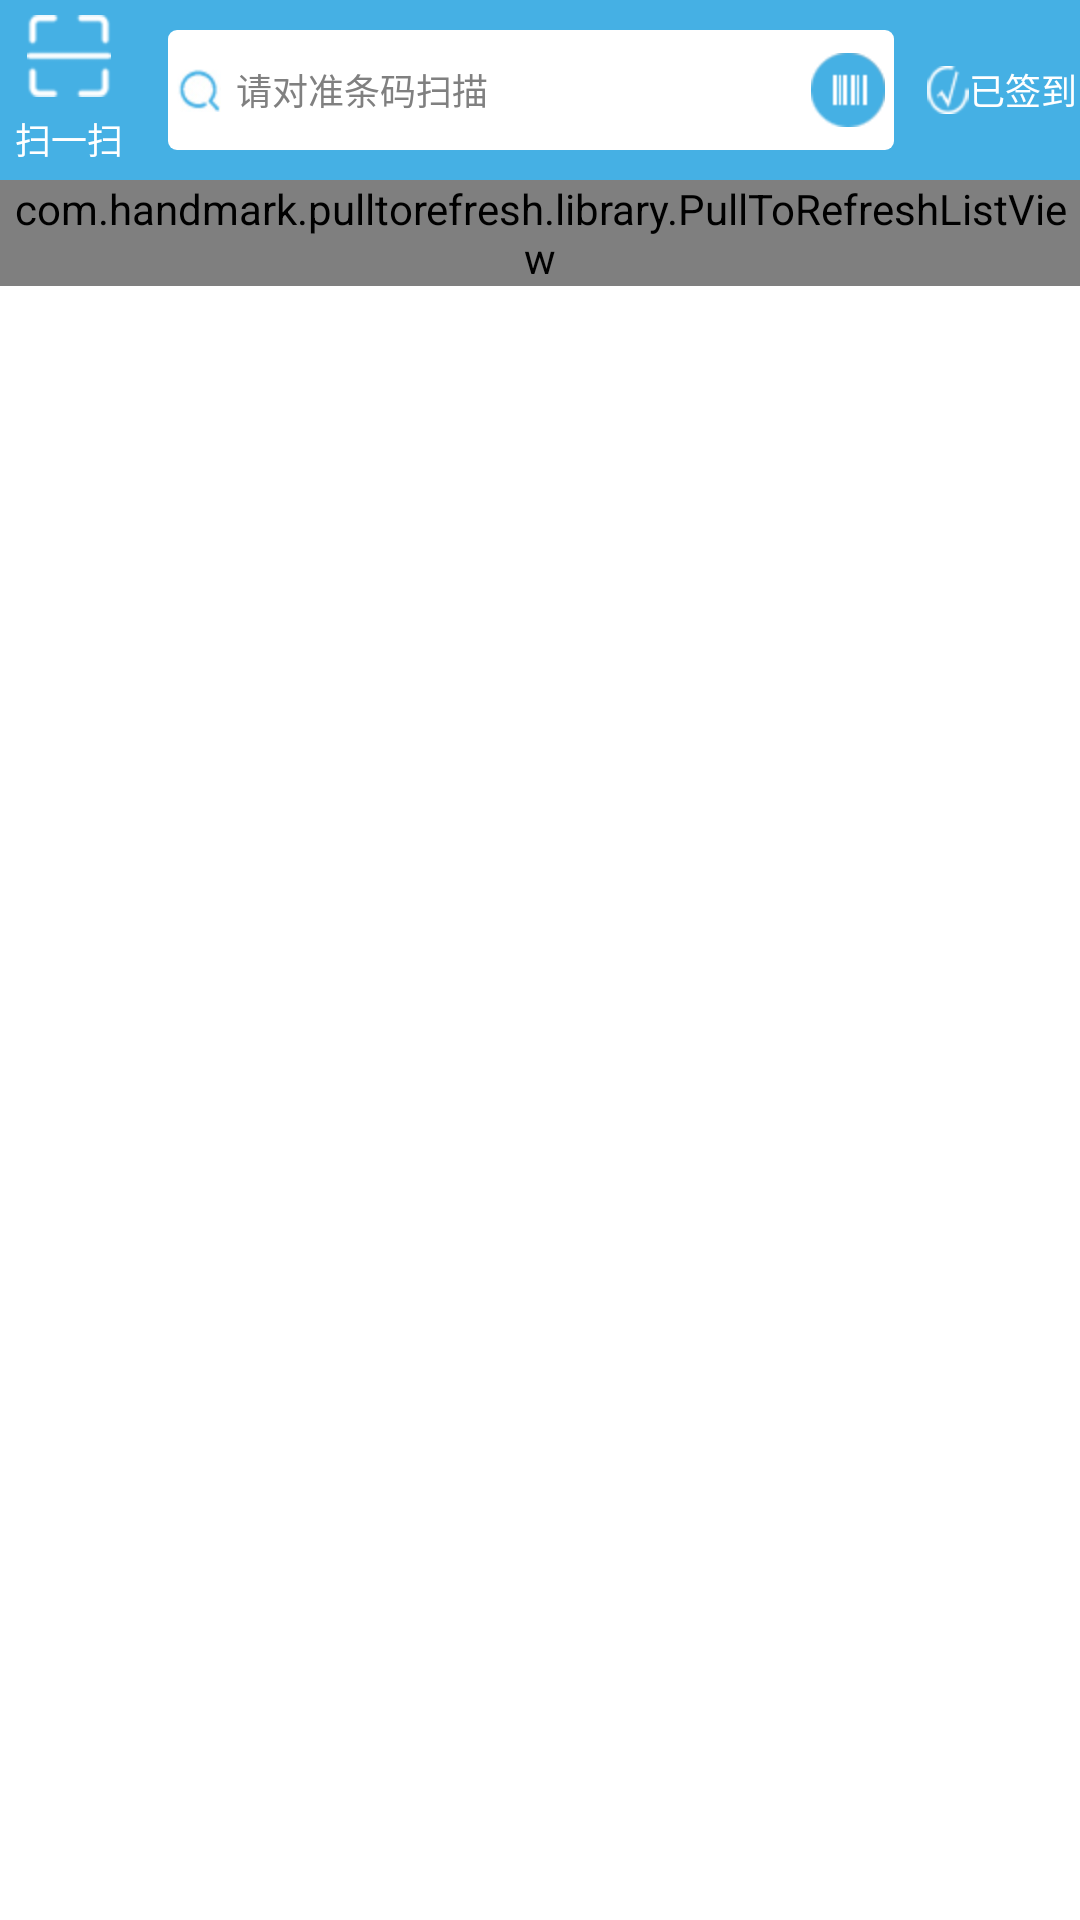

Where to tap for icons on this 1080px×1920px app screen, as point (x, y):
index search: point (199, 91)
